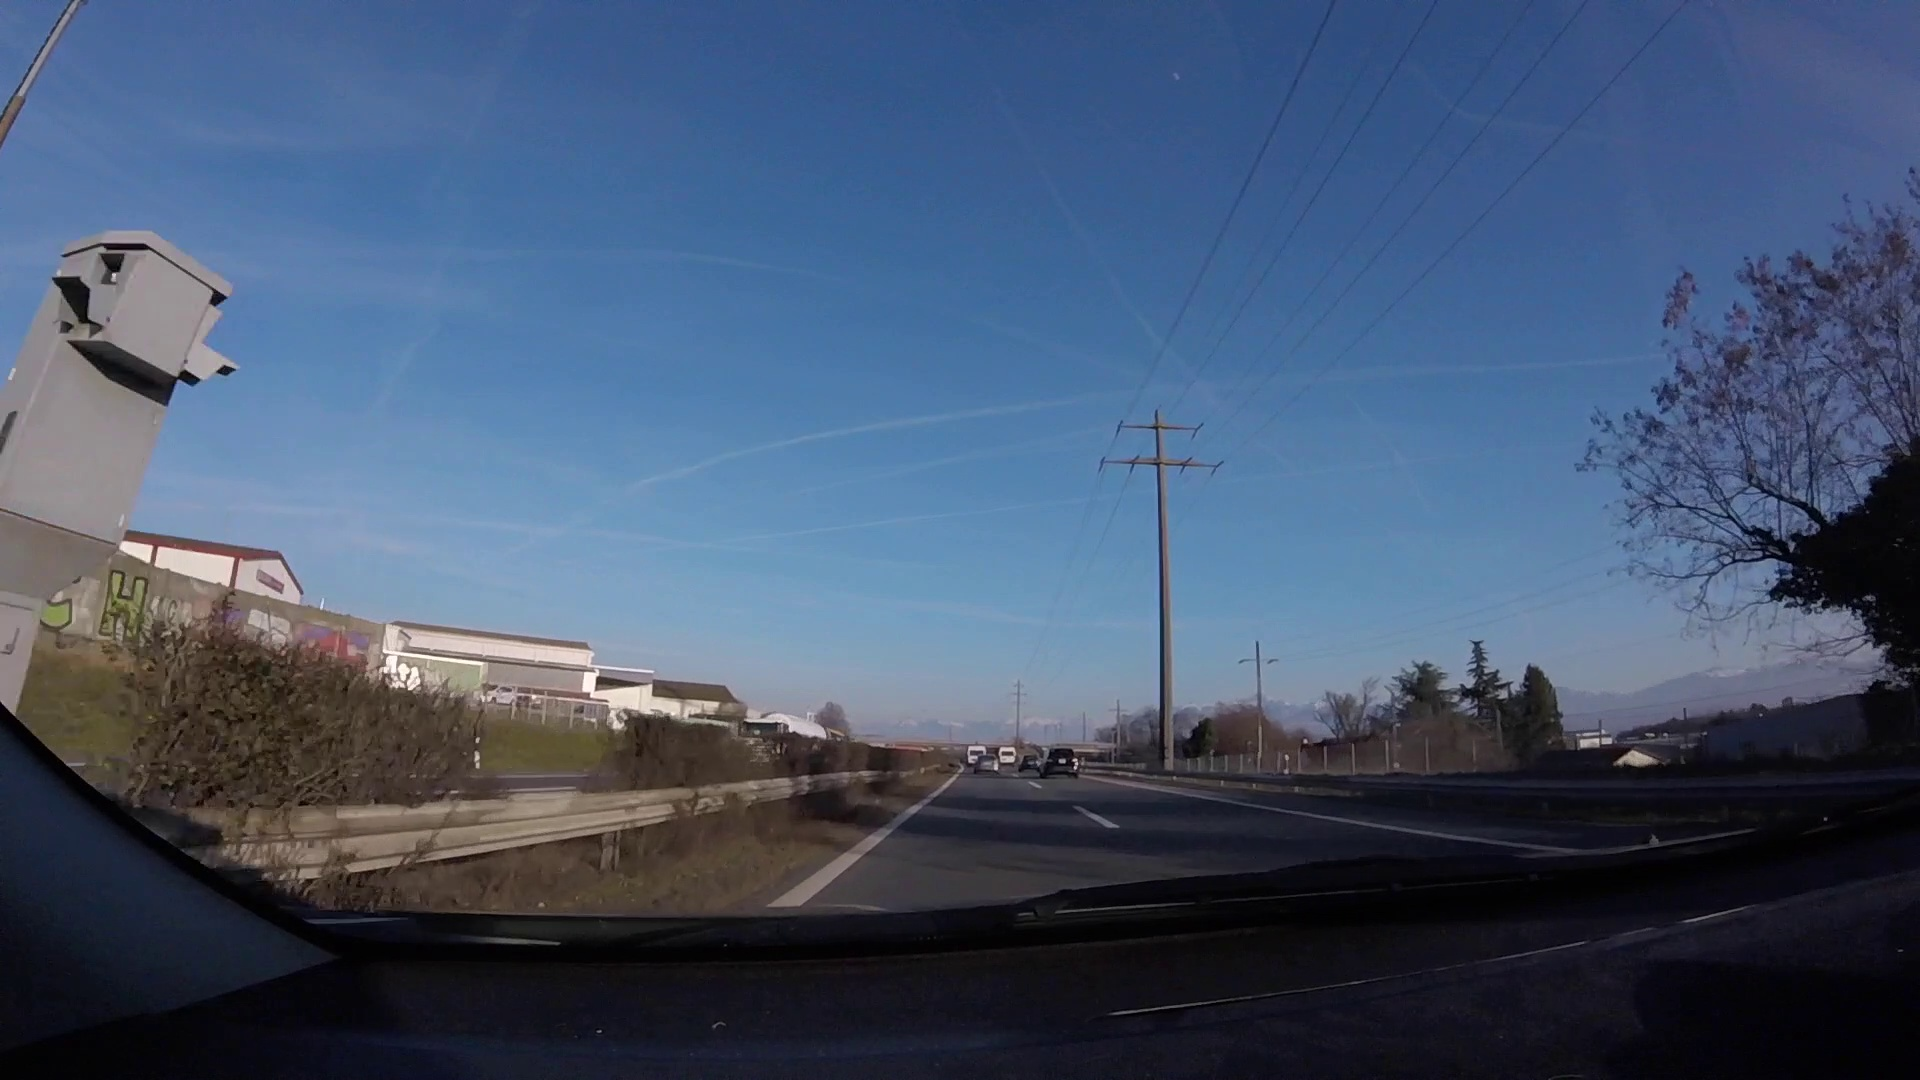radar: (7, 224, 243, 721)
